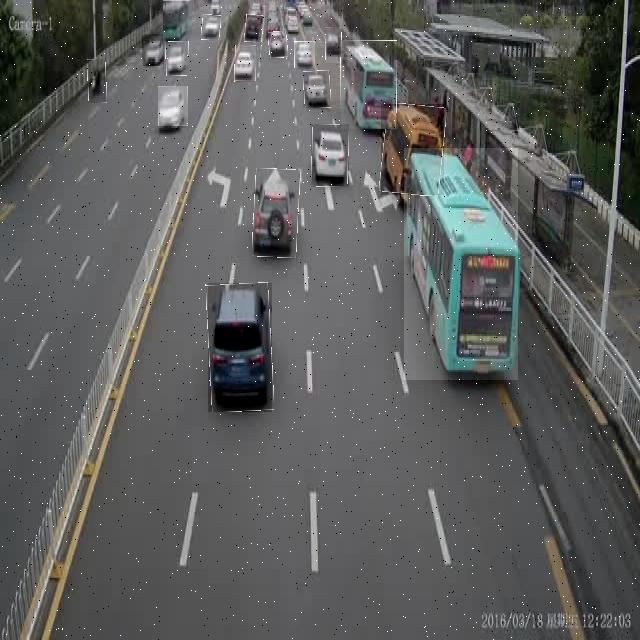Bus: (404, 148, 518, 380), (381, 104, 444, 195), (341, 40, 397, 129), (164, 0, 192, 41), (88, 59, 106, 103)
Car: (208, 283, 272, 412), (253, 169, 299, 258), (311, 124, 349, 187), (158, 86, 188, 126), (303, 71, 331, 108), (166, 42, 189, 76), (235, 45, 256, 81), (142, 34, 164, 66), (326, 27, 342, 63), (294, 41, 315, 68), (268, 31, 288, 58), (201, 15, 221, 40), (245, 15, 262, 42)
